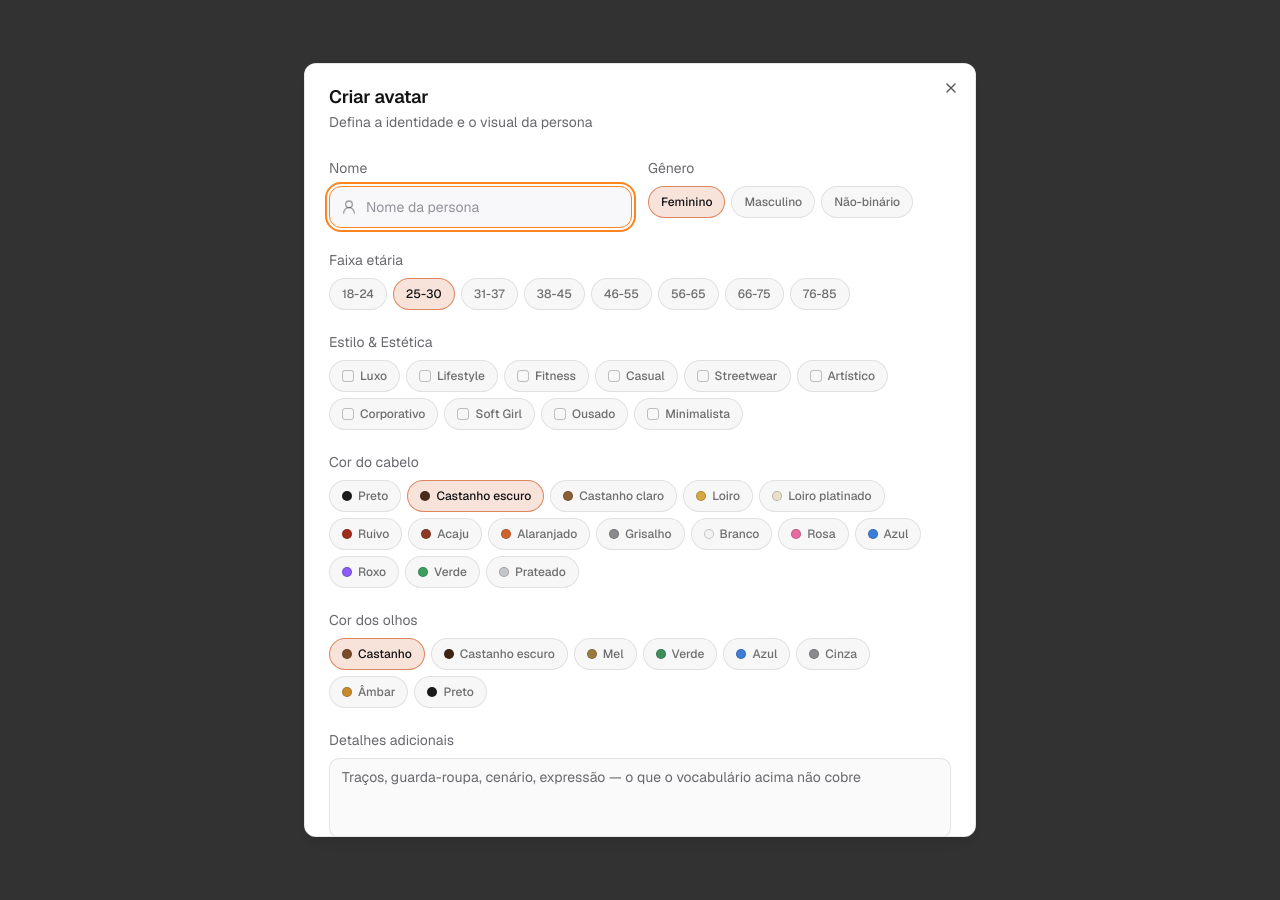
Test case: AvatarCustomizerDialog › clicar num estilo já marcado desmarca
The width and height of the screenshot is (1280, 900).
Click the button "Luxo".
click(365, 376)  # box [329,360,400,392]
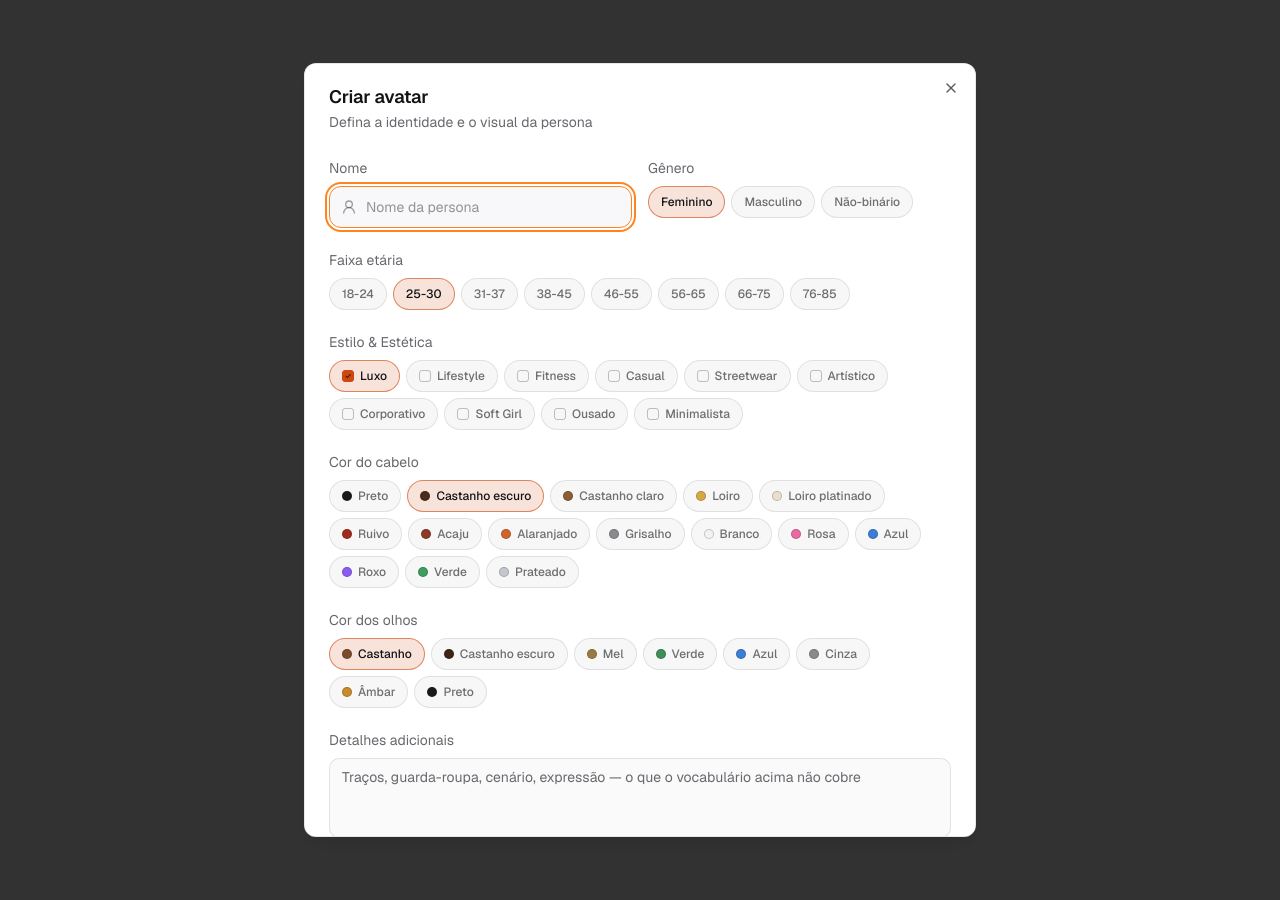
Check: the button "✓ Luxo" is pressed
Click the button "✓ Luxo".
click(365, 376)  # box [329,360,400,392]
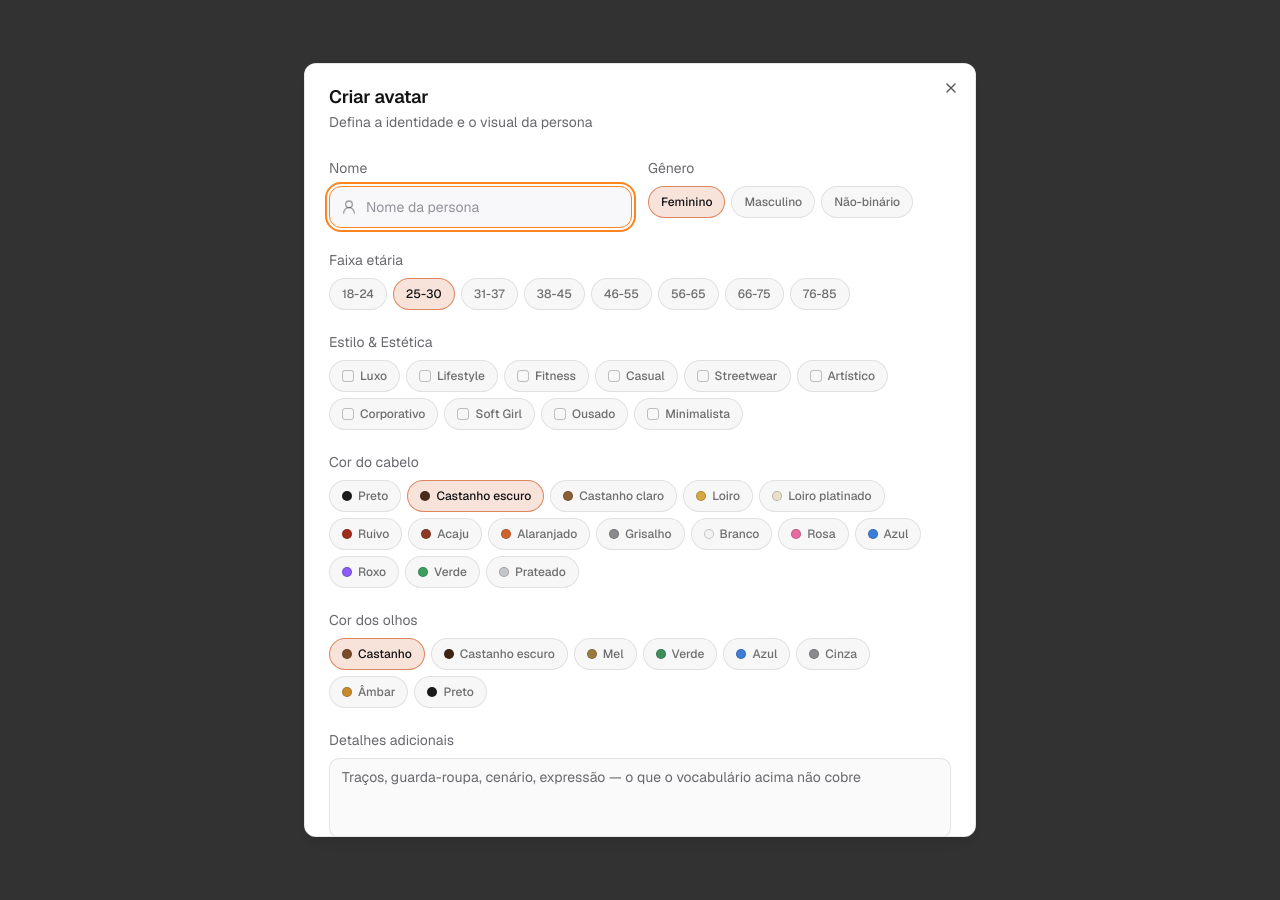
Check: the button "Luxo" is not pressed, box [329,360,400,392]
